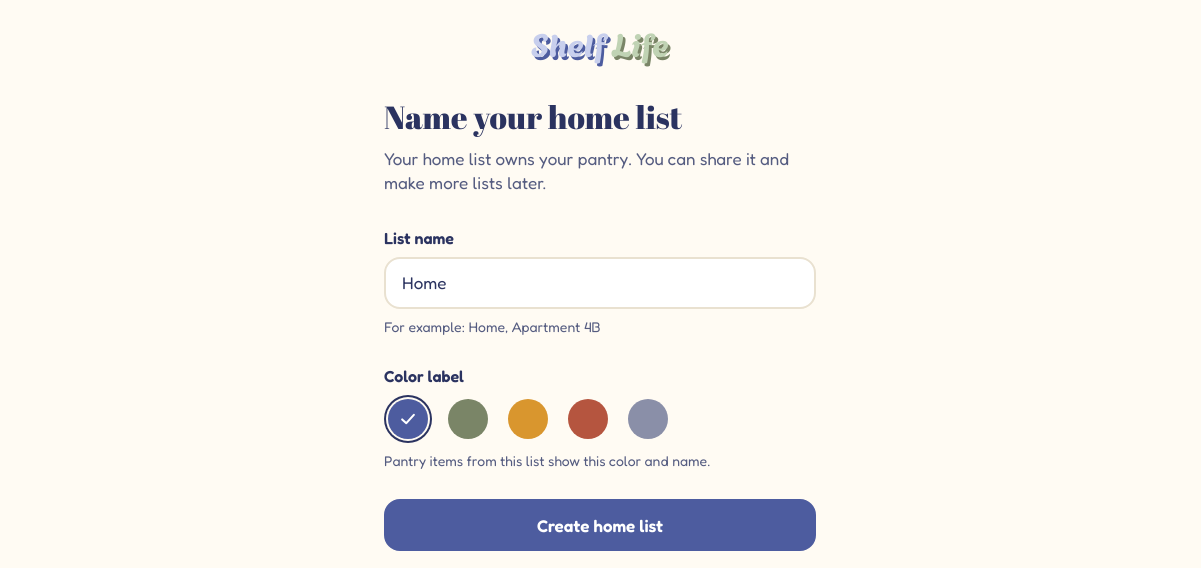
OnboardingPage (home list setup) › WEL-4 Create posts the list and lands on Today
Replace the text in the field labelled "List name" with "Apartment 4B" at (600, 283), box [384,257,816,309]
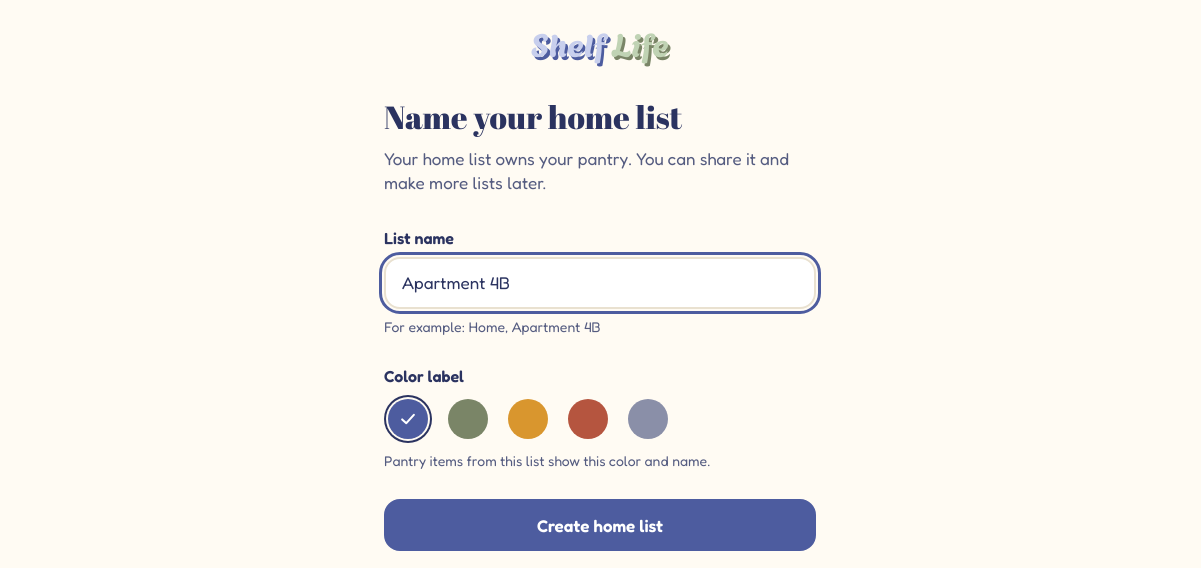
Click the radio button named "Olive" at (468, 419), box [444,395,492,443]
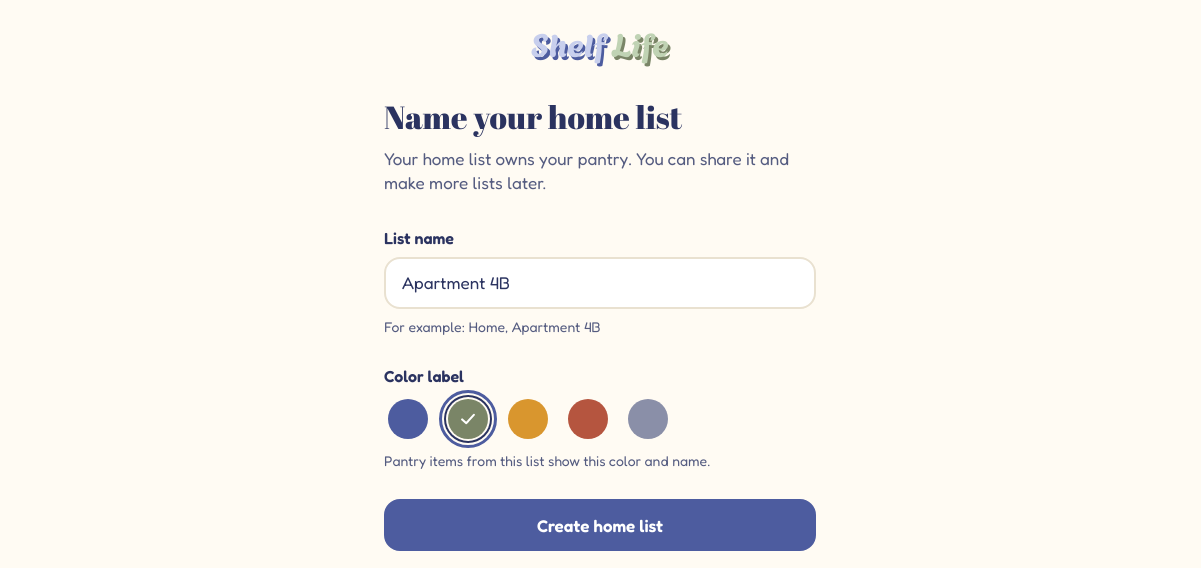
Click the button "Create home list" at (600, 525), box [384,499,816,551]
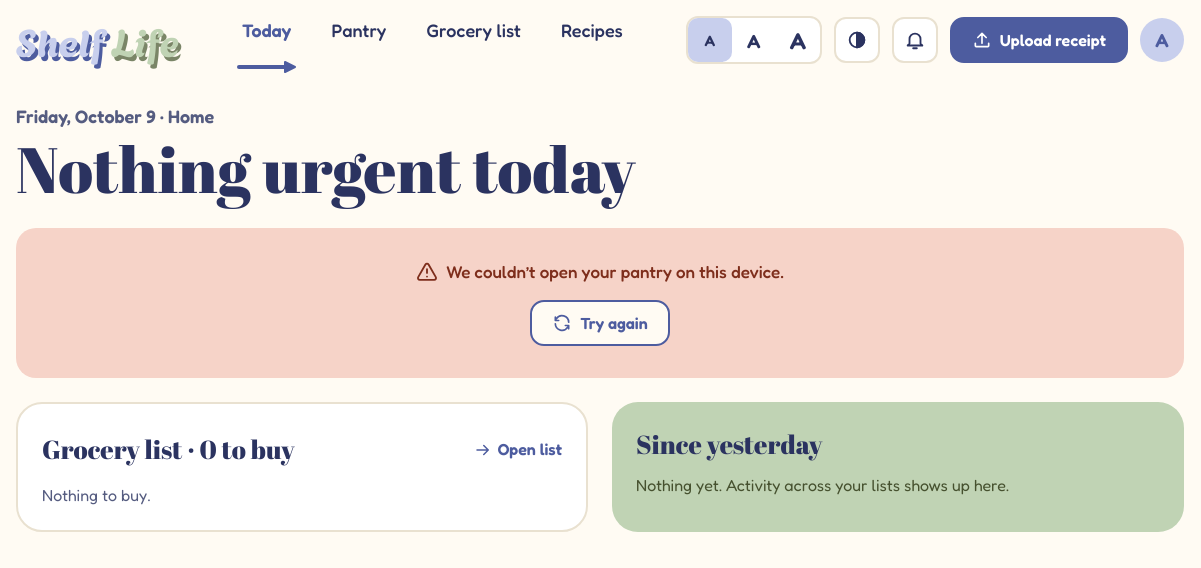
Expected: the heading "Nothing urgent today" is shown, [16,134,635,204]
